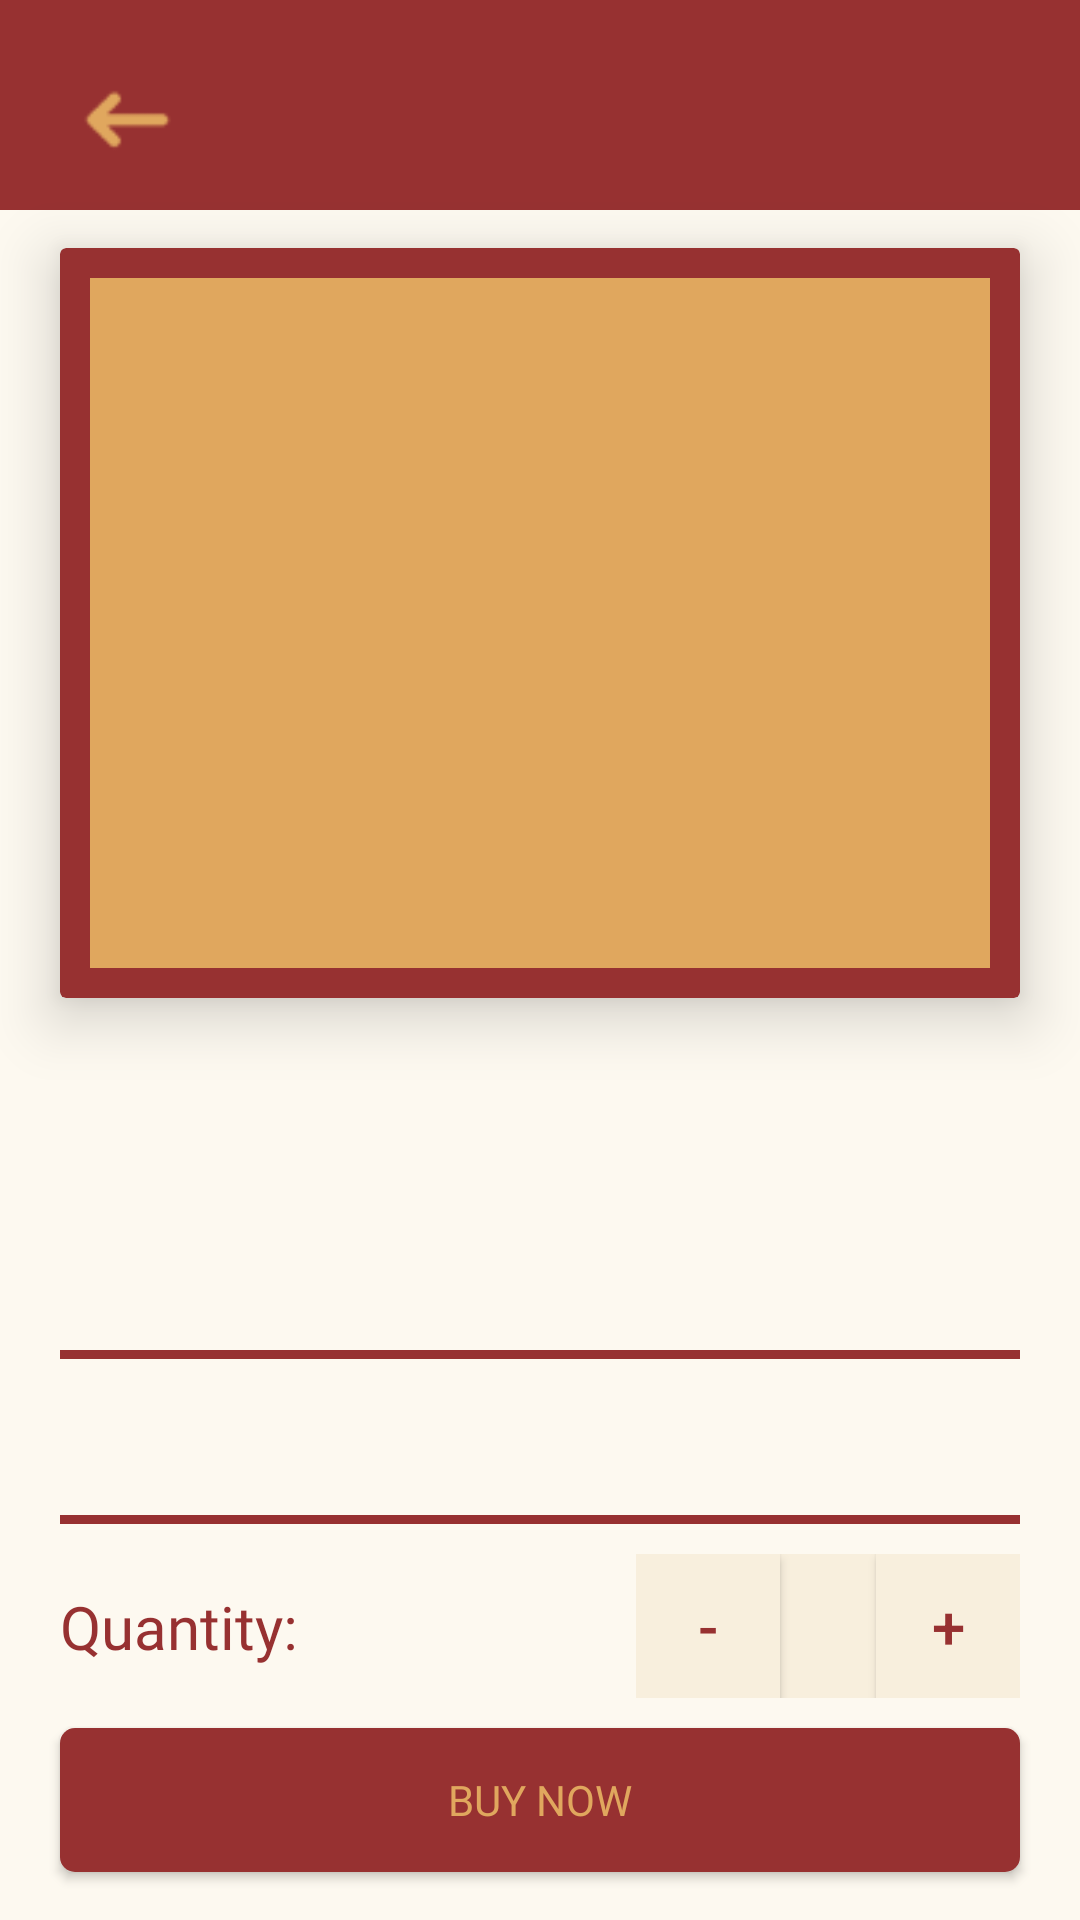

Icons on this 1080 × 1920 Android screen, each with its box as (x1, y1, x2, y2):
back: (86, 92, 169, 148)
